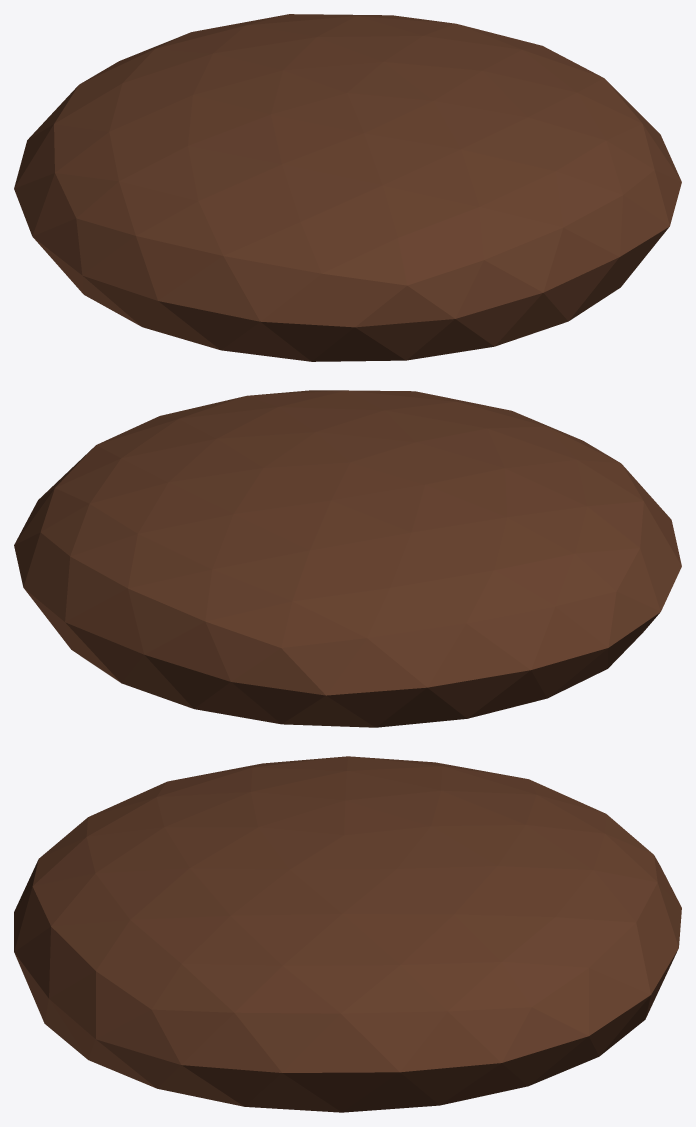
Rendered from cookedMeat.fbx.
3 renders of one model, top to bottom at view 1: azimuth 30°, elevation 25°; view 2: azimuth 150°, elevation 25°; view 3: azimuth 270°, elevation 25°, orthographic. The views are drawn at different scales.
Parts seen in each view (by area): view 1: Cooked Meat; view 2: Cooked Meat; view 3: Cooked Meat.
Part boxes in pixels (x1,y1,x2,y2): Cooked Meat: [14, 14, 681, 361]; Cooked Meat: [14, 390, 681, 727]; Cooked Meat: [14, 756, 681, 1112].
Bounding box in the file's own units: 36.3 × 8.67 × 35.14.
